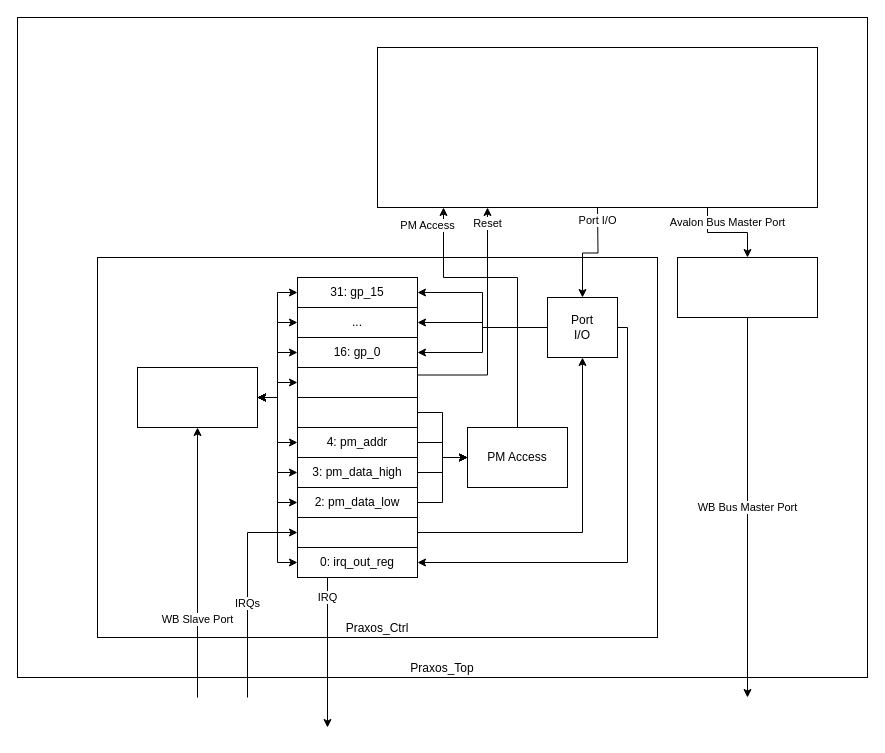
The diagram is 885 pixels wide and 753 high, and some of its shapes have lost their labels. Here are the shapes that lost their labels. From the top down, the centre of each, then its label:
the point at 597,127: Praxos
the point at 747,287: Avalon_to_WB_Master
the point at 197,397: WB Slave
the point at 357,382: 6: ctrl
the point at 357,412: 5: pm_wr
the point at 357,532: 1: irq_in_reg
